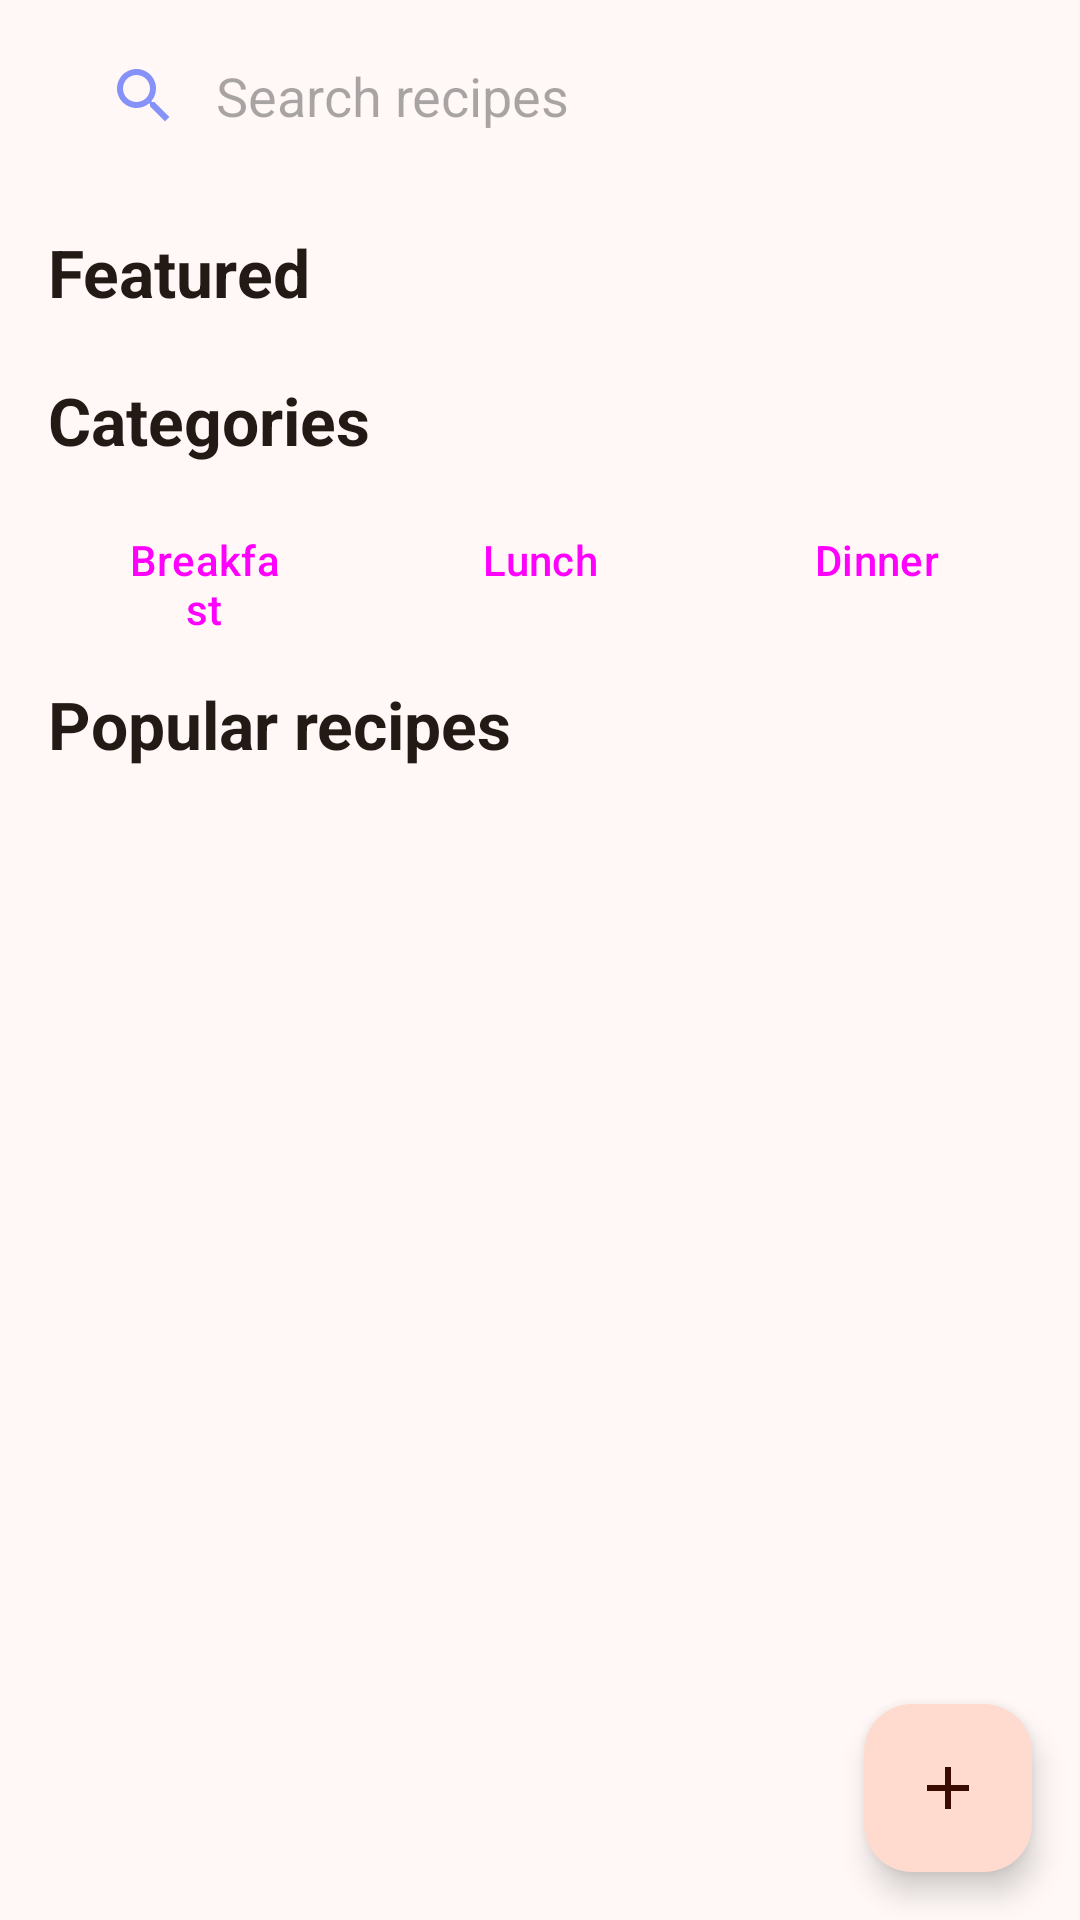

Screen size 1080px x 1920px. Icon name, then its box in pixels as (x1, y1, x2, y2):
Add Recipe: (864, 1704, 1032, 1872)
